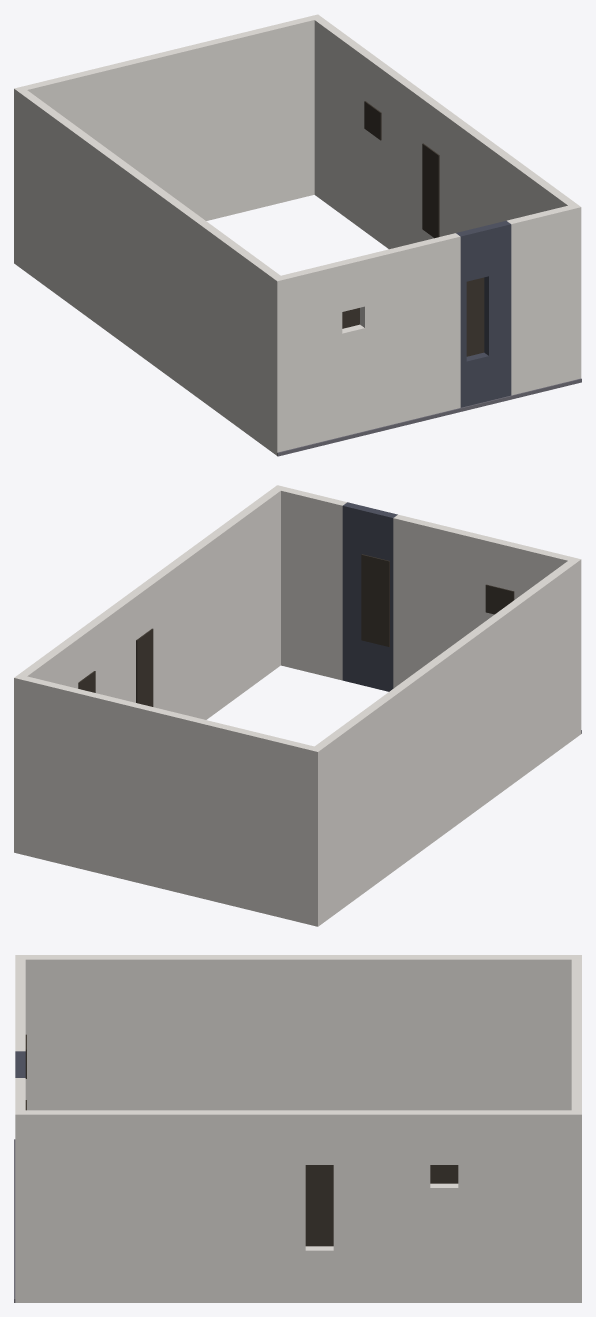
The model's file is SM_Floor_NarrowUpperScatterHighEndR_White_546_01.gltf.
3 renders of one model, top to bottom at view 1: azimuth 30°, elevation 25°; view 2: azimuth 150°, elevation 25°; view 3: azimuth 270°, elevation 25°, orthographic. The views are drawn at different scales.
Parts seen in each view (by area): view 1: SM_Floor_NarrowUpperScatterHighEndR_White_546_01; view 2: SM_Floor_NarrowUpperScatterHighEndR_White_546_01; view 3: SM_Floor_NarrowUpperScatterHighEndR_White_546_01.
Part boxes in pixels (x1,y1,x2,y2): SM_Floor_NarrowUpperScatterHighEndR_White_546_01: (14, 14, 581, 456); SM_Floor_NarrowUpperScatterHighEndR_White_546_01: (14, 485, 581, 926); SM_Floor_NarrowUpperScatterHighEndR_White_546_01: (14, 955, 581, 1302).
Size of the model in its own units: 5.46 by 3 by 8.21.
1 material, 1 textured.
